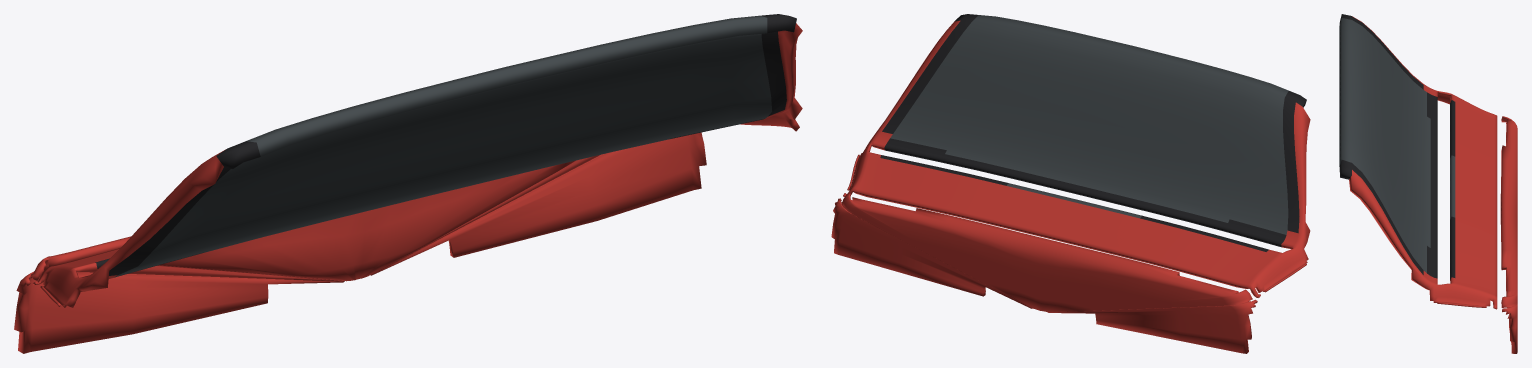
The model's file is Hatch_Tailgate.fbx.
3 renders of one model, left to right at view 1: azimuth 30°, elevation 25°; view 2: azimuth 150°, elevation 25°; view 3: azimuth 270°, elevation 25°, orthographic. The views are drawn at different scales.
Visible parts, largest first — view 1: Hatch_Tailgate_LOD0; view 2: Hatch_Tailgate_LOD0; view 3: Hatch_Tailgate_LOD0.
Boxes of the visible parts, x1=… form: Hatch_Tailgate_LOD0: x1=14, y1=14, x2=802, y2=353; Hatch_Tailgate_LOD0: x1=831, y1=14, x2=1310, y2=353; Hatch_Tailgate_LOD0: x1=1339, y1=14, x2=1517, y2=353.
Size of what is drawn, in the model's own units: 1.66 by 0.6936 by 0.6107.
